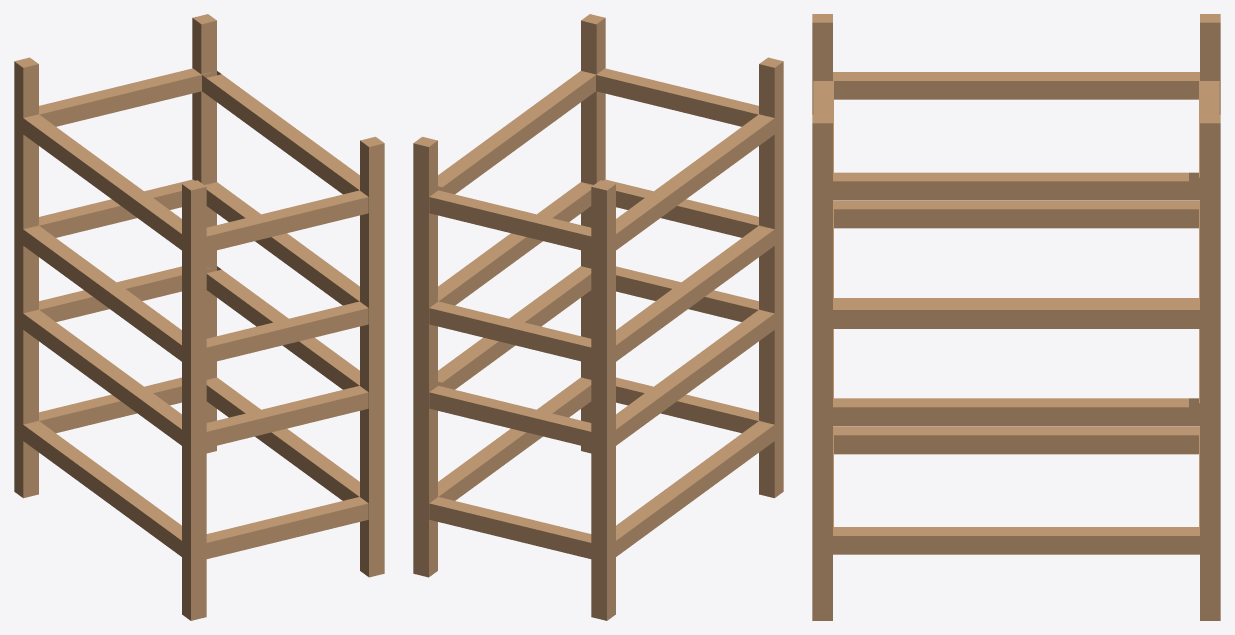
Rendered from Env_1.fbx.
The picture shows the model from 3 angles, left to right: view 1: azimuth 30°, elevation 25°; view 2: azimuth 150°, elevation 25°; view 3: azimuth 270°, elevation 25°; orthographic projection. The views are drawn at different scales.
Visible parts, largest first — view 1: SCAFFOLD; view 2: SCAFFOLD; view 3: SCAFFOLD.
Part boxes in pixels (left/top/right/bottom): SCAFFOLD: left=14, top=14, right=384, bottom=620; SCAFFOLD: left=413, top=14, right=783, bottom=620; SCAFFOLD: left=812, top=14, right=1220, bottom=620.
Bounding box in the file's own units: 105 × 223 × 166.
